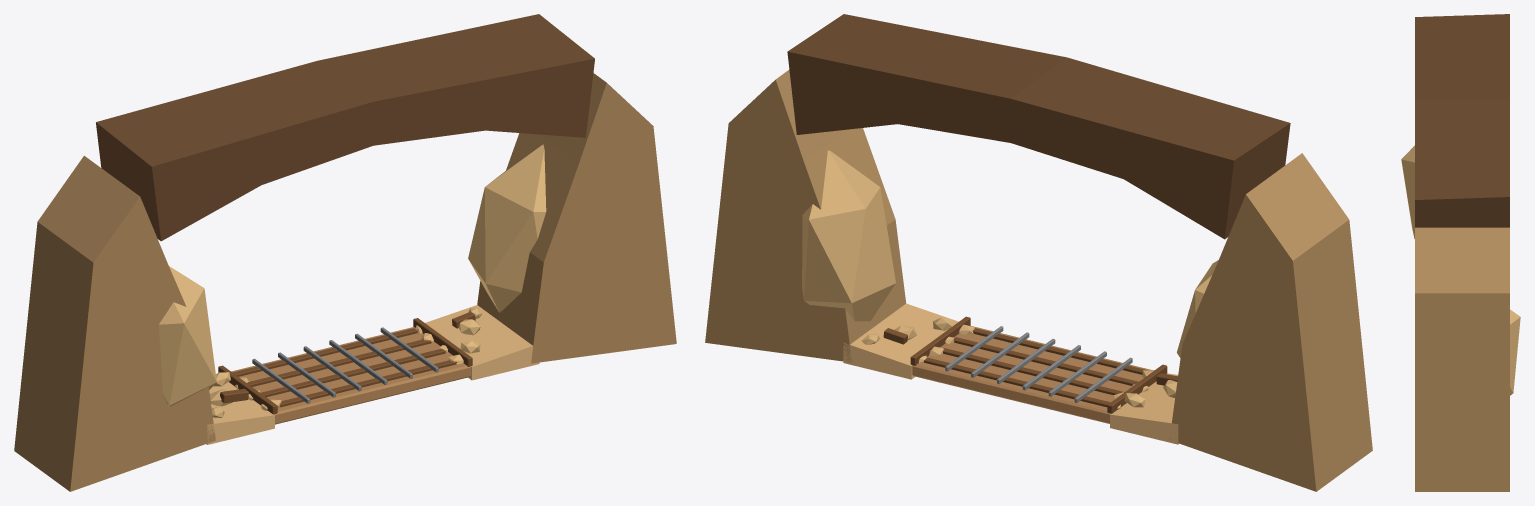
The model's file is timber_mine_platform.glb.
3 views of the same model, side by side, from view 1: azimuth 30°, elevation 25°; view 2: azimuth 150°, elevation 25°; view 3: azimuth 270°, elevation 25° (orthographic). The views are drawn at different scales.
Visible parts, largest first — view 1: GEO_wall, GEO_ceiling, GEO_wall_alt, GEO_ground, GEO_ground_alt, GEO_wood, GEO_rail; view 2: GEO_wall, GEO_ceiling, GEO_wall_alt, GEO_ground, GEO_ground_alt, GEO_wood, GEO_rail; view 3: GEO_wall, GEO_ceiling, GEO_wall_alt.
Part boxes in pixels (left/top/right/bottom): GEO_wall: left=14, top=73, right=676, bottom=491; GEO_ceiling: left=96, top=14, right=594, bottom=241; GEO_wall_alt: left=159, top=144, right=546, bottom=417; GEO_ground: left=231, top=327, right=471, bottom=424; GEO_ground_alt: left=206, top=305, right=539, bottom=444; GEO_wood: left=218, top=311, right=475, bottom=414; GEO_rail: left=252, top=327, right=438, bottom=403; GEO_wall: left=705, top=70, right=1372, bottom=491; GEO_ceiling: left=787, top=14, right=1290, bottom=239; GEO_wall_alt: left=802, top=150, right=1218, bottom=407; GEO_ground: left=912, top=325, right=1152, bottom=423; GEO_ground_alt: left=843, top=303, right=1178, bottom=444; GEO_wood: left=883, top=316, right=1177, bottom=413; GEO_rail: left=945, top=326, right=1132, bottom=402; GEO_wall: left=1415, top=227, right=1509, bottom=491; GEO_ceiling: left=1415, top=14, right=1509, bottom=227; GEO_wall_alt: left=1401, top=145, right=1520, bottom=395.
Size of the model in its own units: 26 by 12.95 by 5.24.
